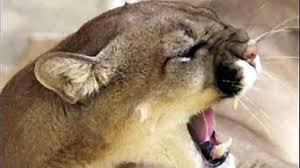Mountain Lion: (7, 3, 259, 168)
